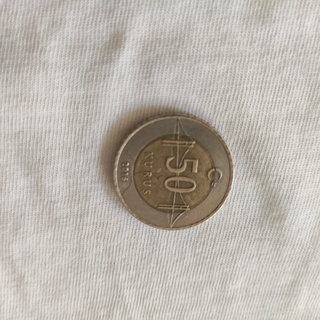50KURUS: (110, 111, 235, 232)
